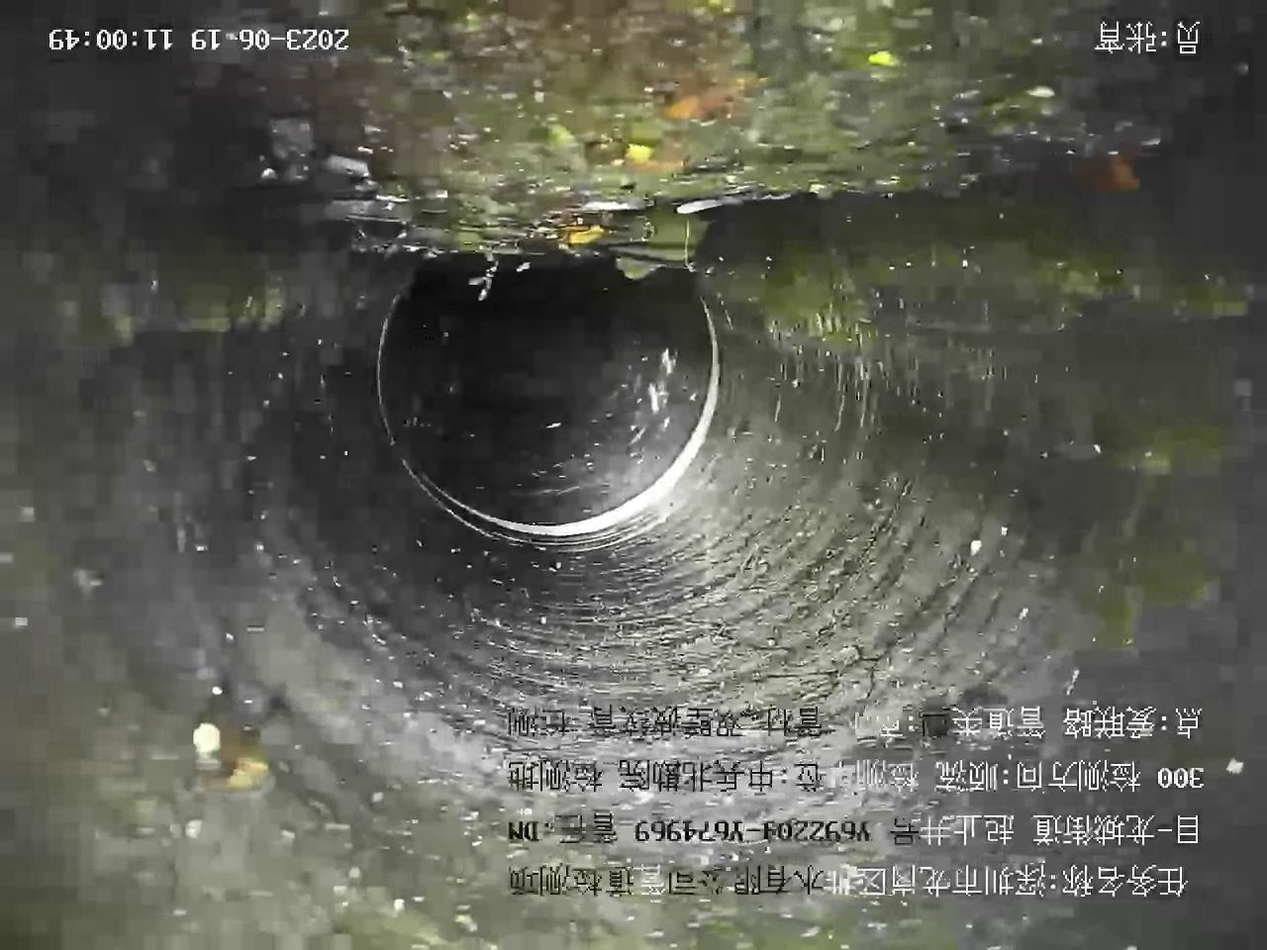CJ: (193, 1, 1161, 279)
CKTJ: (364, 244, 736, 545)
